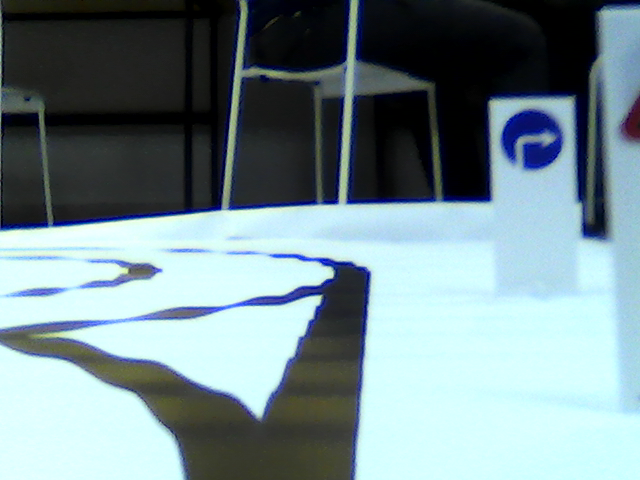Right: (502, 110, 563, 171)
